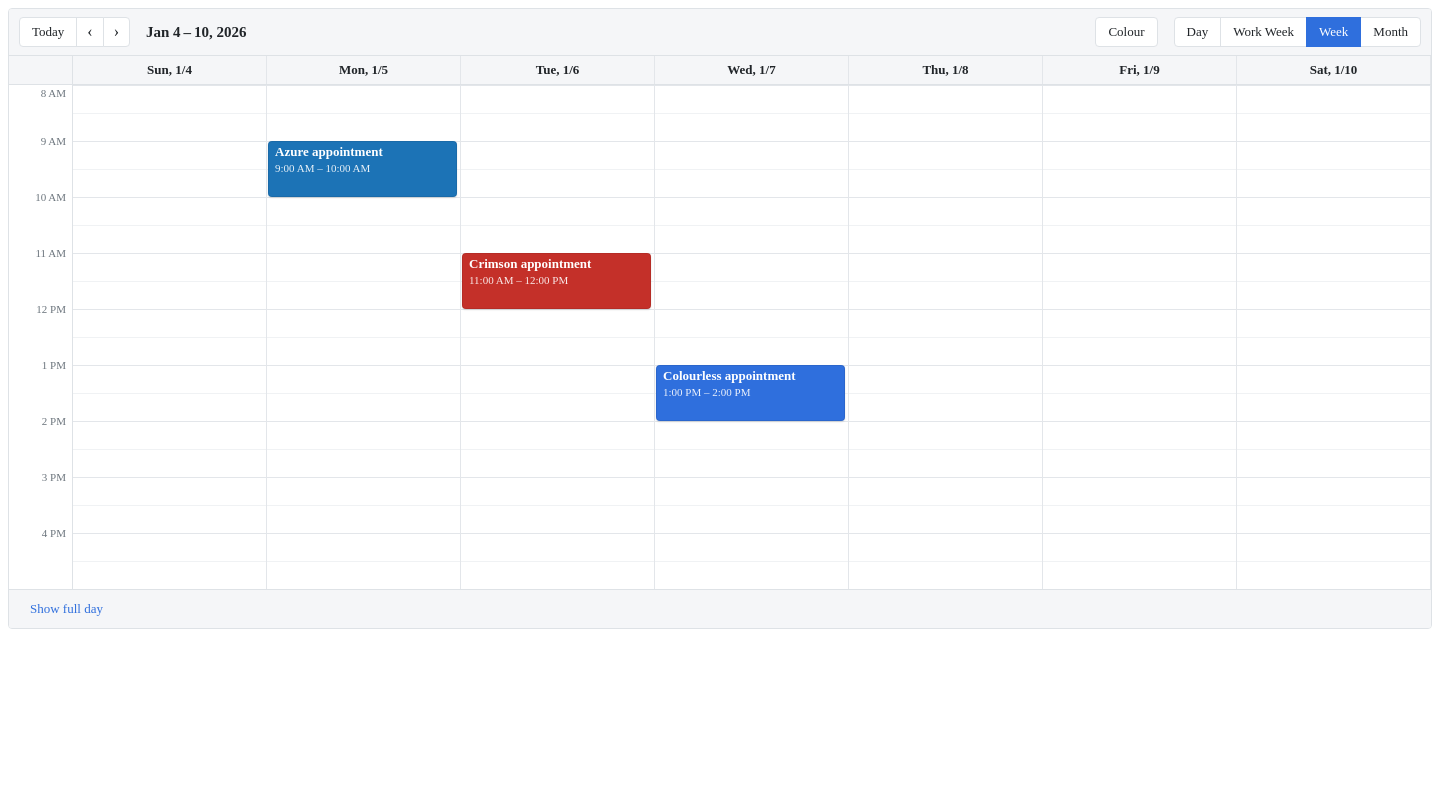
Scenario: filtering › hides the events that do not match, and marks the button active
Step 1. Click the button "Colour" → (1126, 32), box [1095, 17, 1158, 47]
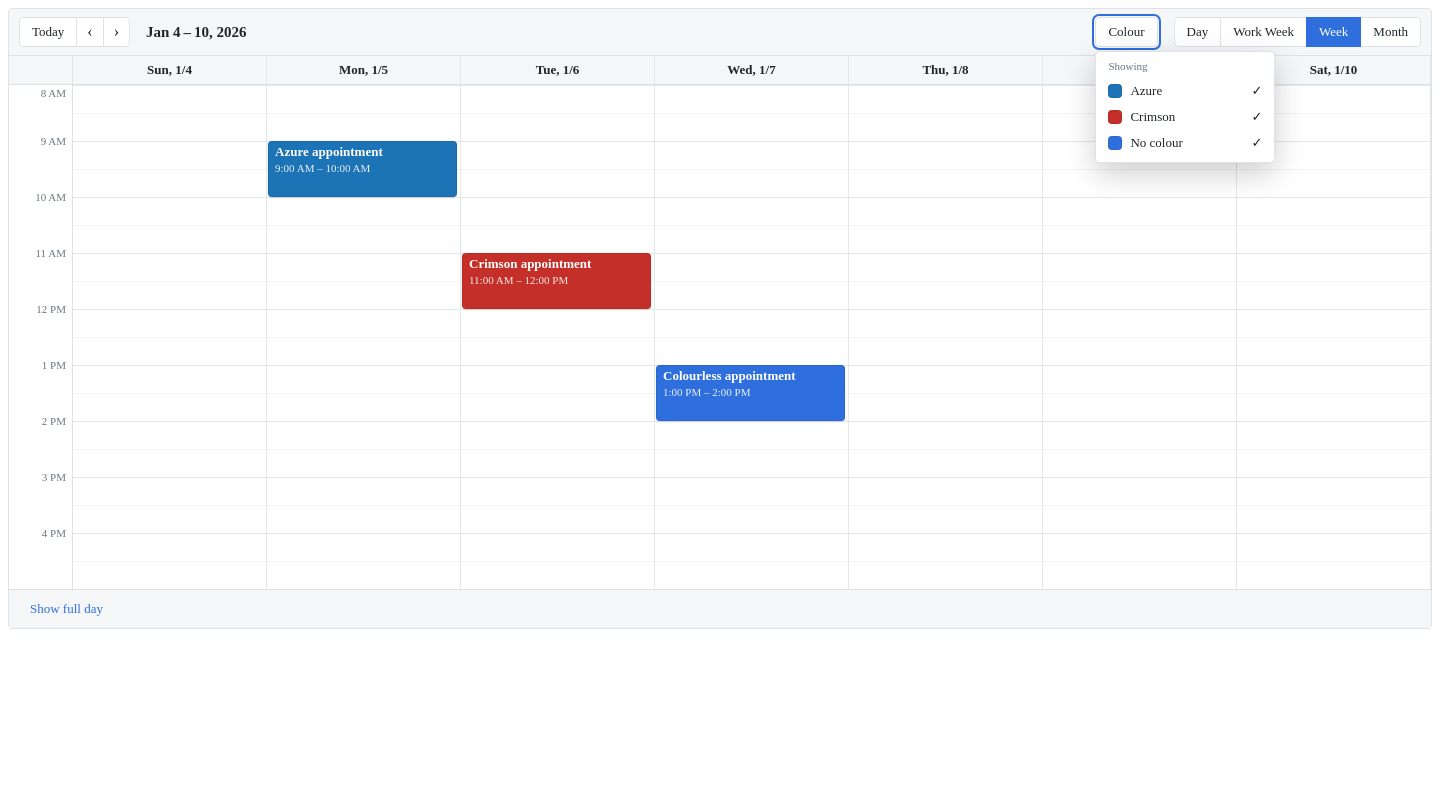
Step 2. Click the button "Azure ✓" → (1185, 91), box [1102, 78, 1268, 104]
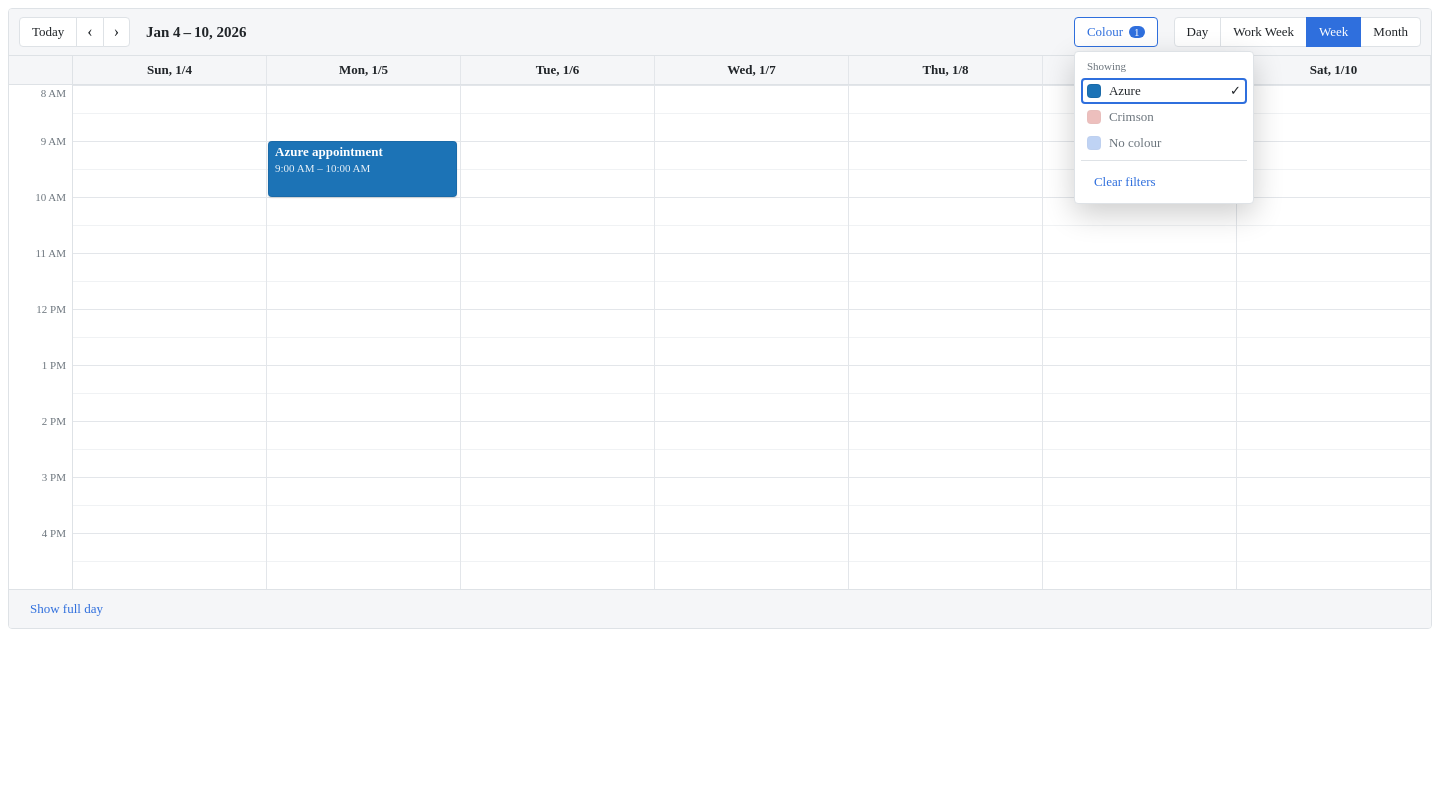
Check: the text "Azure appointment" is shown, box [275, 144, 383, 159]
Check: the text "Crimson appointment" is gone
Check: the text "Colourless appointment" is gone
